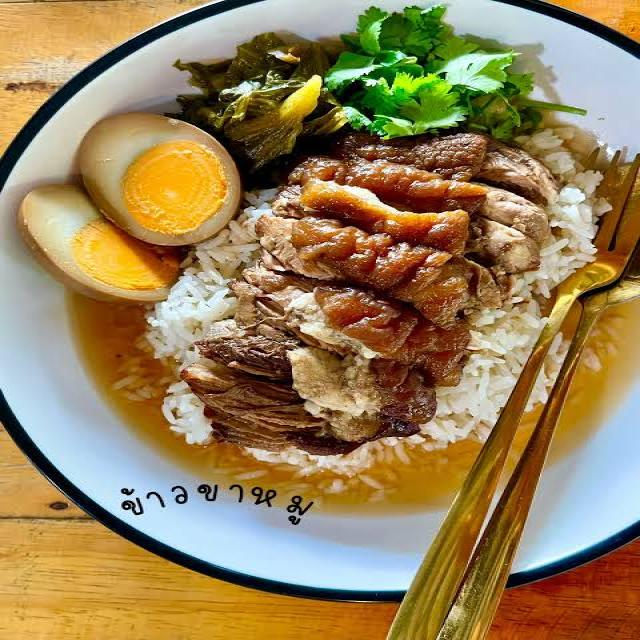carb: (139, 264, 238, 352), (480, 292, 539, 407)
meat: (307, 128, 455, 406)
stewed pork leg on rice: (25, 71, 596, 452)
vegetable: (354, 24, 499, 120)
